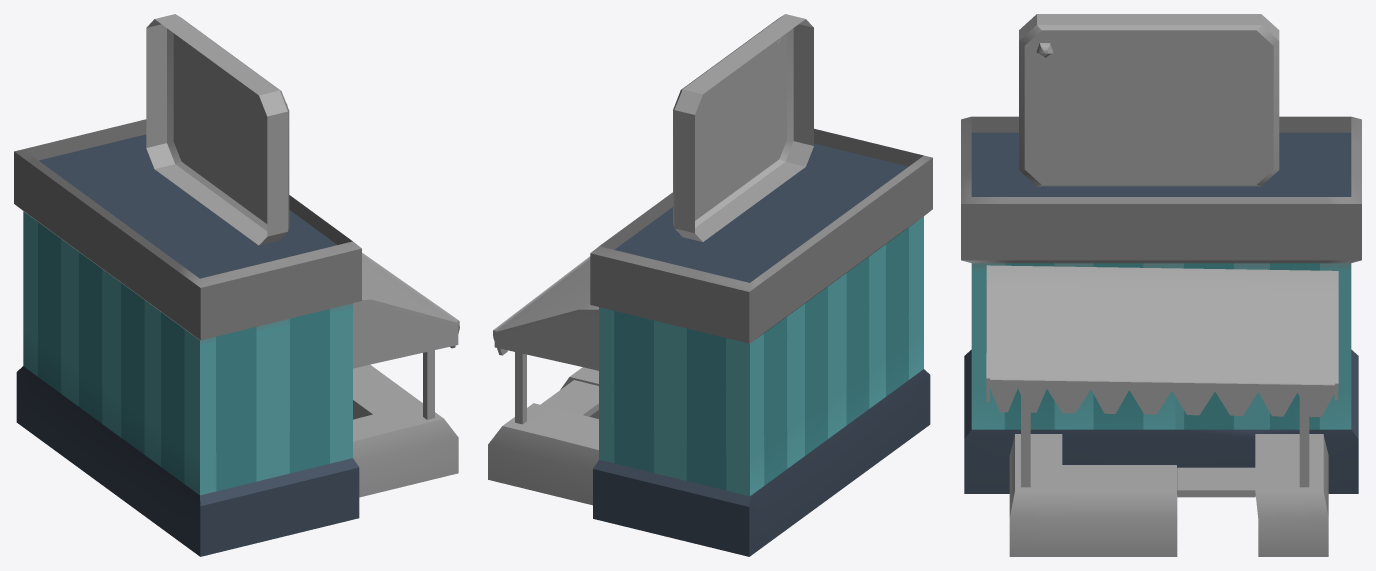
The model's file is Bar.fbx.
3 renders of one model, left to right at view 1: azimuth 30°, elevation 25°; view 2: azimuth 150°, elevation 25°; view 3: azimuth 270°, elevation 25°, orthographic. The views are drawn at different scales.
Parts seen in each view (by area): view 1: Building, pCube5, Step, FruitStand:pCube7, pCube3; view 2: Building, pCube5, Step, FruitStand:pCube7, pCube2, pCube4; view 3: Building, FruitStand:pCube7, pCube5, Step, pCube2, pCube4, pCube3.
Part boxes in pixels (left/top/right/bottom): Building: left=14, top=119, right=361, bottom=556; pCube5: left=146, top=14, right=289, bottom=245; Step: left=353, top=364, right=458, bottom=497; FruitStand:pCube7: left=353, top=253, right=459, bottom=368; pCube3: left=423, top=350, right=434, bottom=419; Building: left=590, top=128, right=932, bottom=556; pCube5: left=673, top=14, right=813, bottom=241; Step: left=488, top=367, right=598, bottom=505; FruitStand:pCube7: left=493, top=256, right=598, bottom=370; pCube2: left=541, top=380, right=598, bottom=416; pCube4: left=515, top=352, right=526, bottom=424; Building: left=961, top=116, right=1361, bottom=493; FruitStand:pCube7: left=986, top=265, right=1338, bottom=416; pCube5: left=1019, top=14, right=1279, bottom=186; Step: left=1009, top=434, right=1328, bottom=556; pCube2: left=1177, top=467, right=1255, bottom=497; pCube4: left=1299, top=397, right=1309, bottom=487; pCube3: left=1021, top=396, right=1030, bottom=487.
Size of the model in its own units: 1.83 by 2.59 by 2.11.
